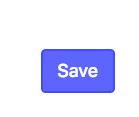button: (37, 47, 120, 99)
